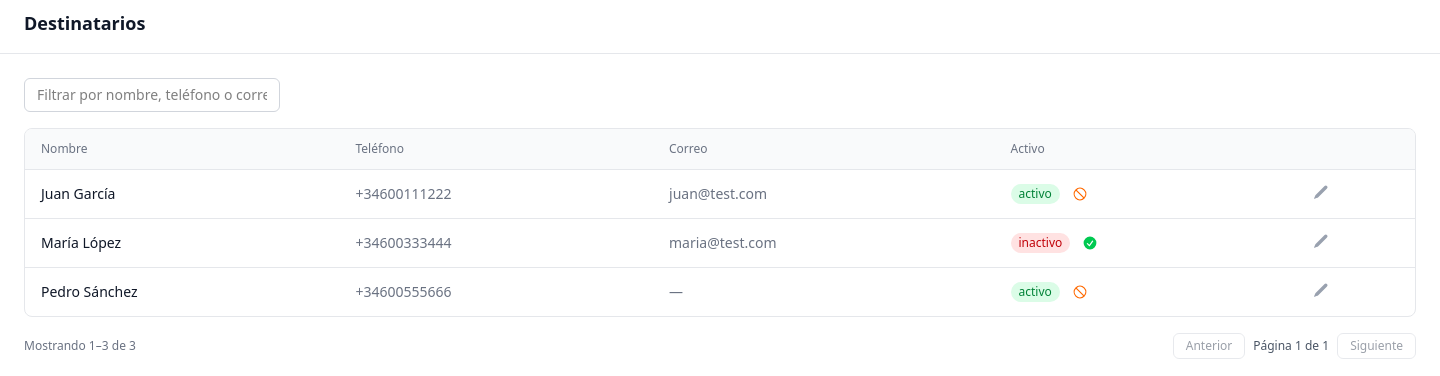
RecipientsPage › filters recipients by name when typing in search
Check: the text "Juan García" is shown, box [25, 170, 340, 218]
Type "María" into the field with placeholder "Filtrar por nombre, teléfono o correo..." at (152, 95), box [24, 78, 280, 112]
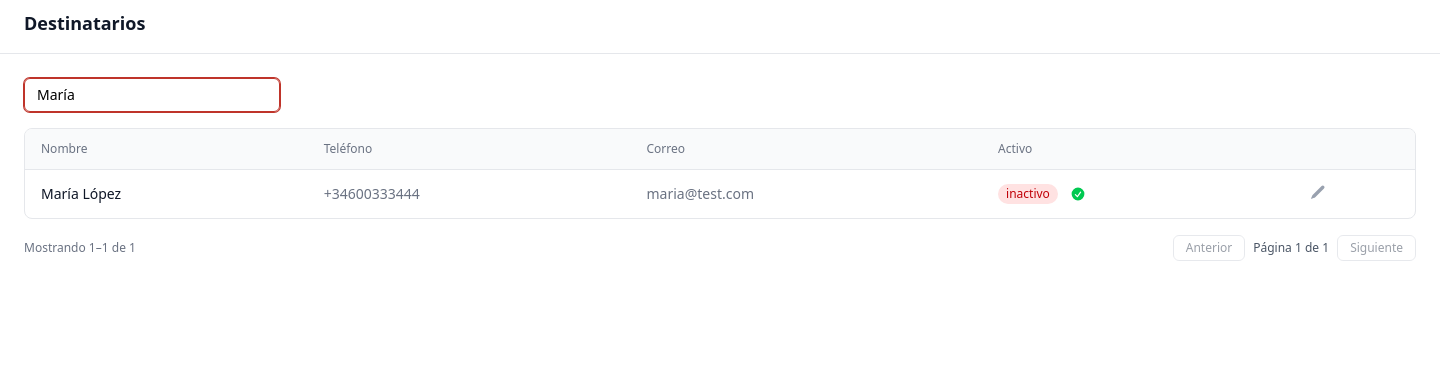
Check: the text "María López" is shown, box [25, 170, 308, 218]
Check: the text "Juan García" is gone
Check: the text "Pedro Sánchez" is gone
